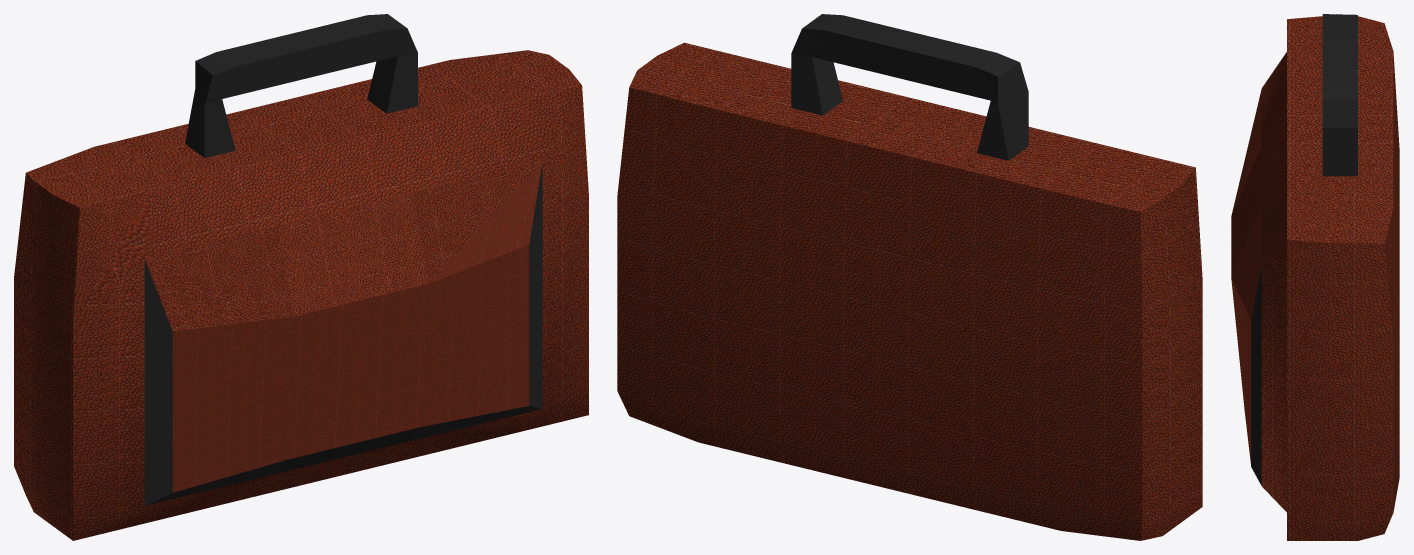
Rendered from suitcase.FBX.
The picture shows the model from 3 angles, left to right: view 1: azimuth 30°, elevation 25°; view 2: azimuth 150°, elevation 25°; view 3: azimuth 270°, elevation 25°; orthographic projection. The views are drawn at different scales.
Visible parts, largest first — view 1: suitcase; view 2: suitcase; view 3: suitcase.
Boxes of the visible parts, x1,y1,x2,y2 form: suitcase: (14, 14, 588, 540); suitcase: (617, 14, 1202, 540); suitcase: (1231, 14, 1399, 540).
Bounding box in the file's own units: 3678 × 2765 × 1130.
Materials: 2 (1 with a texture image).
